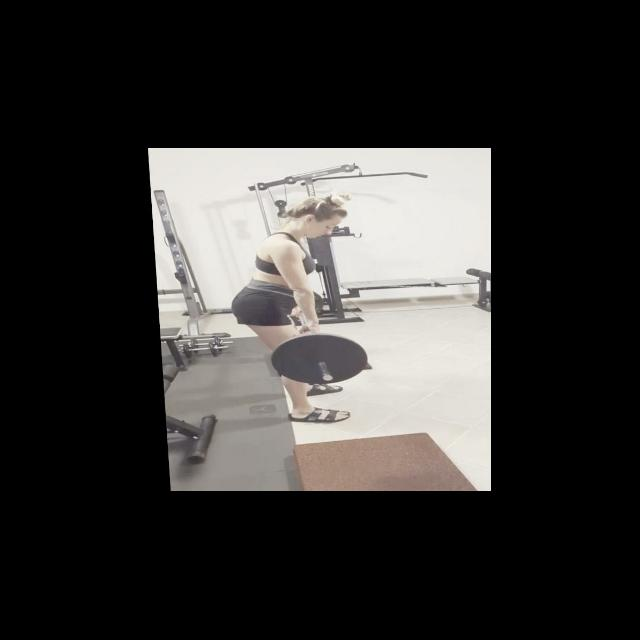barbell: (264, 331, 369, 387)
